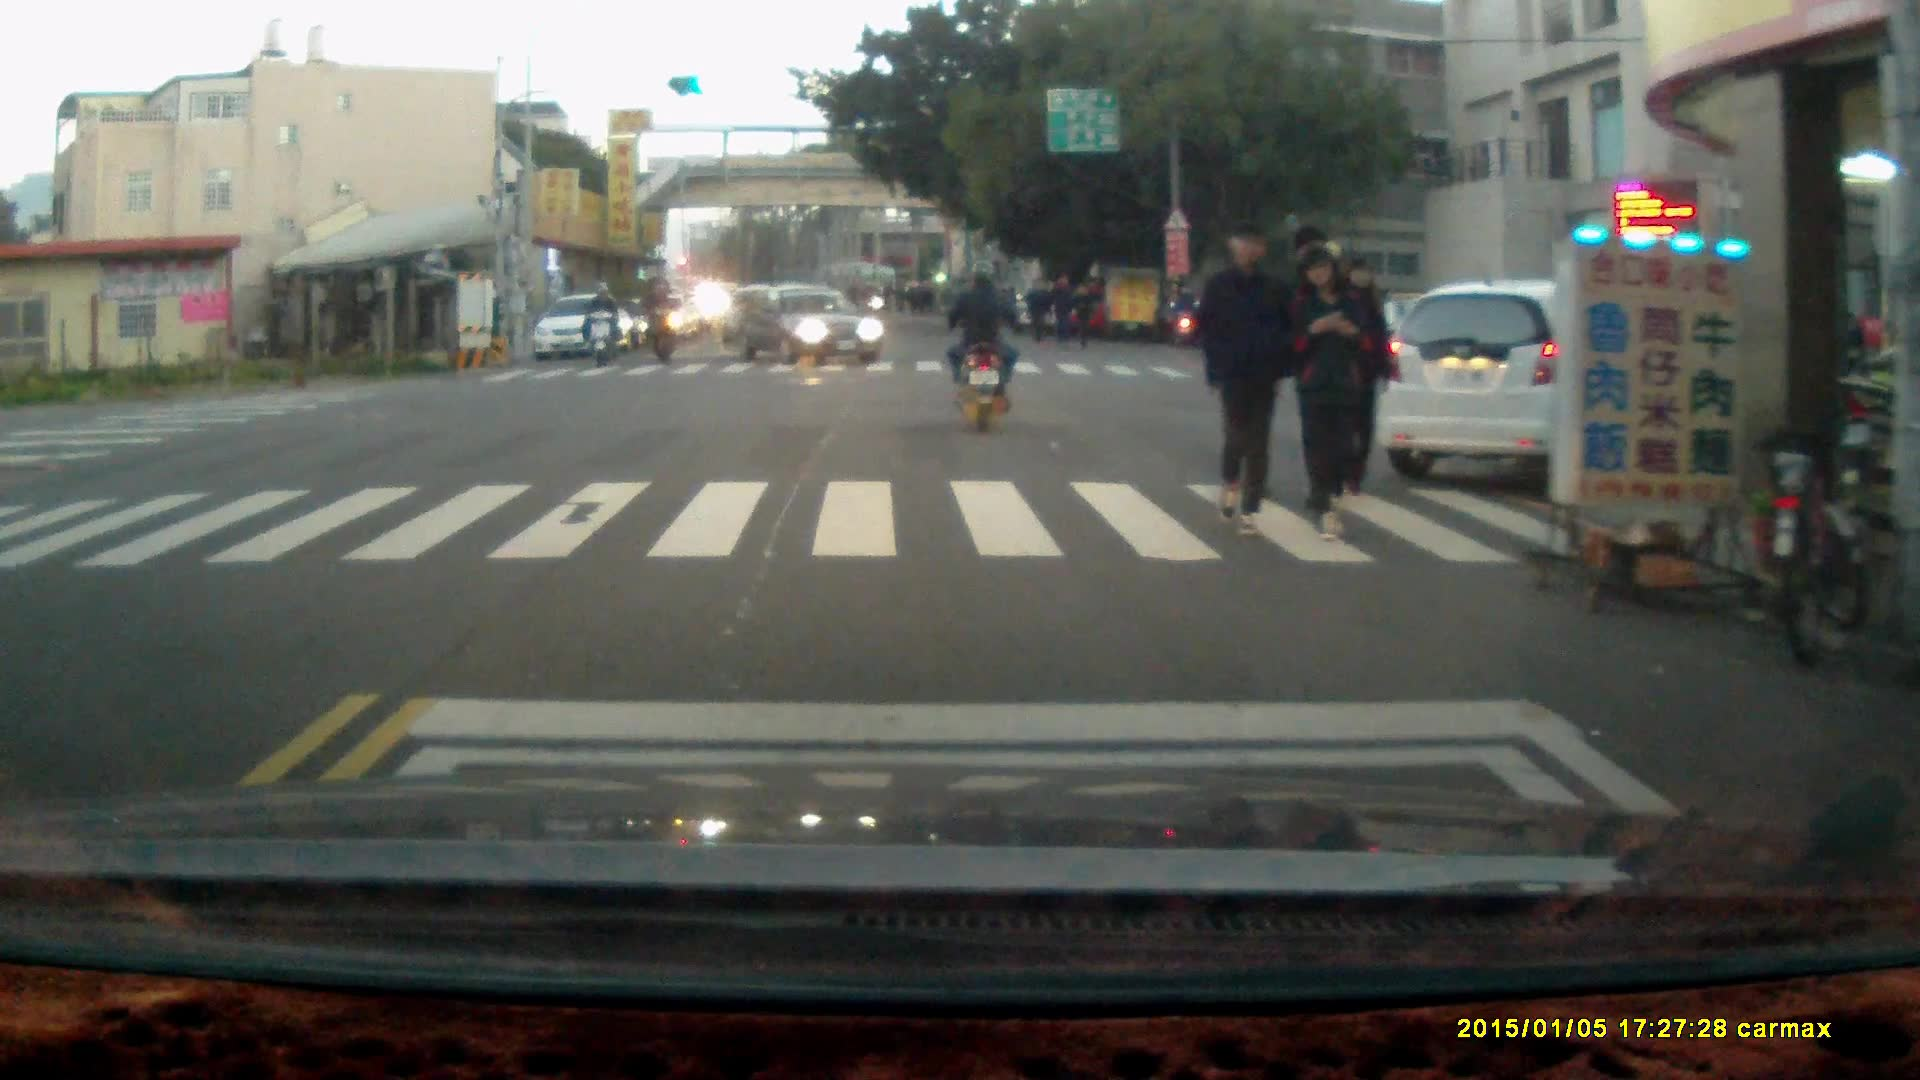pedestrian: (1193, 217, 1295, 538), (1285, 243, 1370, 542), (1046, 271, 1073, 349), (1067, 280, 1097, 350), (1022, 275, 1048, 345)
rider: (946, 256, 1016, 436), (640, 279, 681, 369), (582, 278, 620, 367), (1164, 285, 1204, 351)
vehicle: (1384, 283, 1811, 493), (730, 281, 885, 373), (535, 298, 635, 367)
